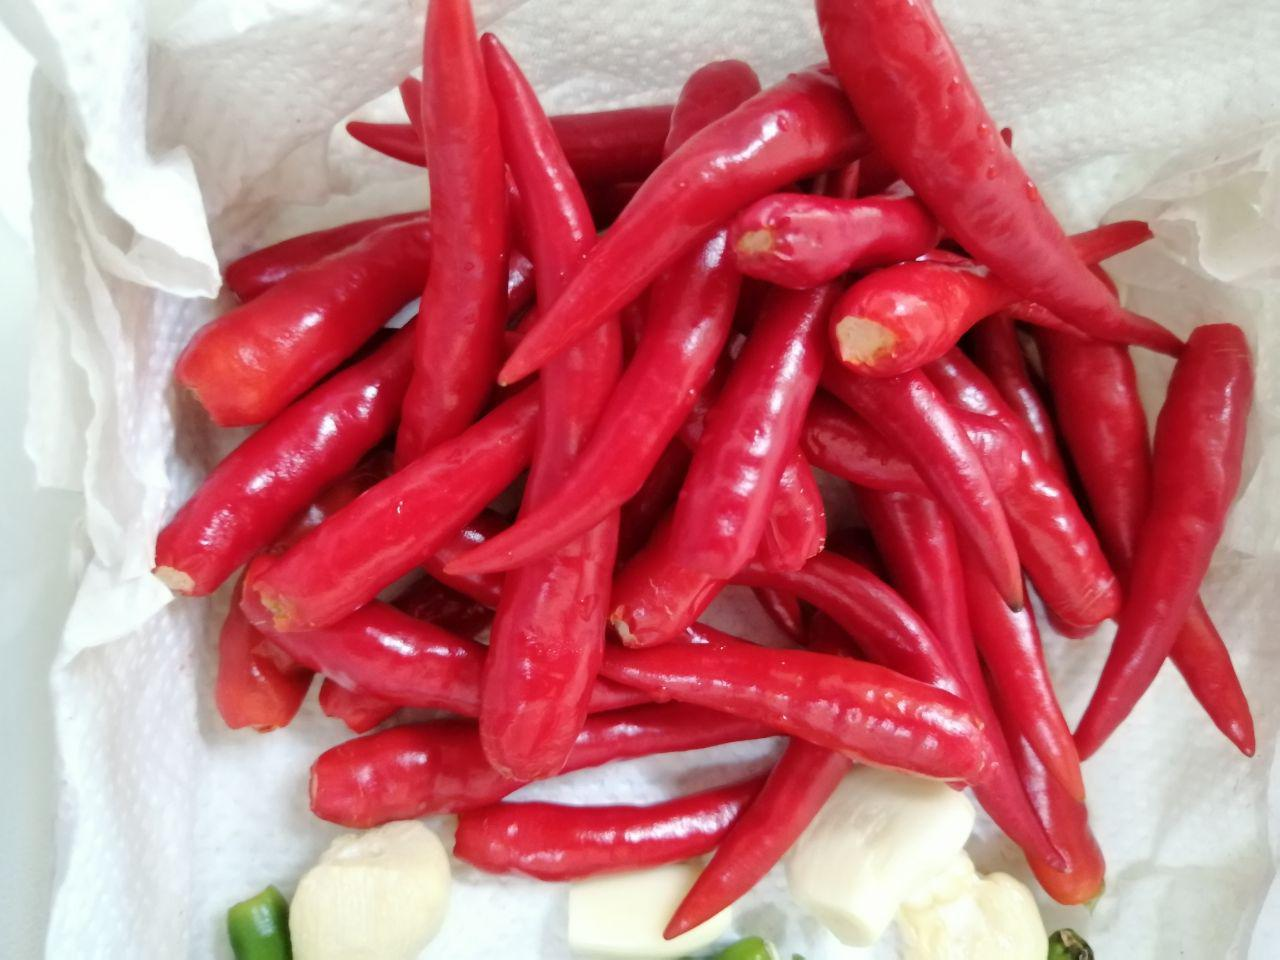lada merah: (808, 1, 1206, 377), (449, 27, 638, 796), (502, 43, 885, 380), (291, 677, 856, 849), (1056, 322, 1266, 781), (249, 374, 559, 646), (575, 608, 997, 793), (155, 324, 434, 596), (808, 299, 1038, 622), (943, 512, 1119, 921), (375, 1, 506, 527), (158, 214, 458, 425), (431, 769, 794, 906)
